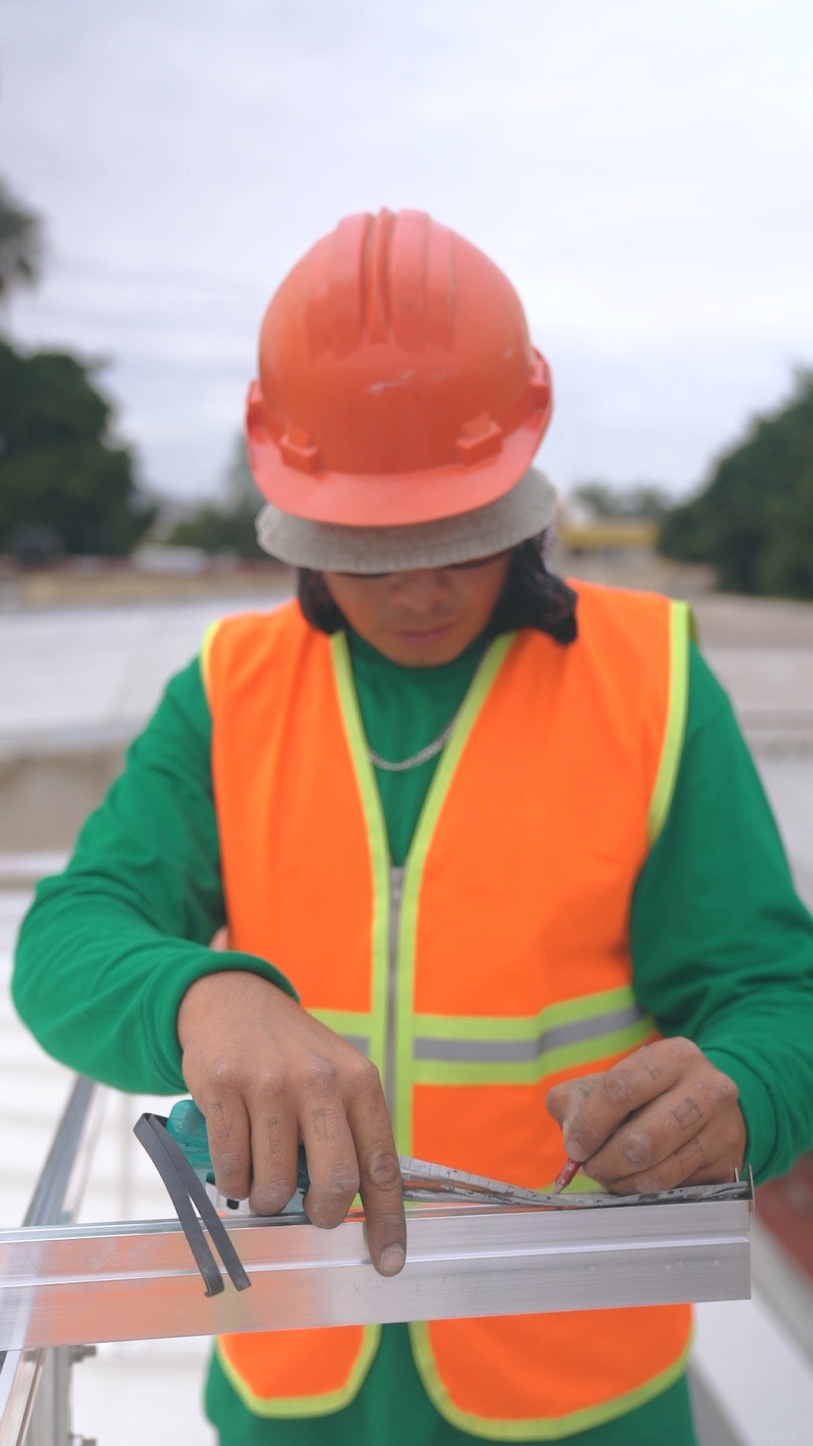No-gloves: (153, 956, 446, 1305), (539, 1016, 775, 1238)
